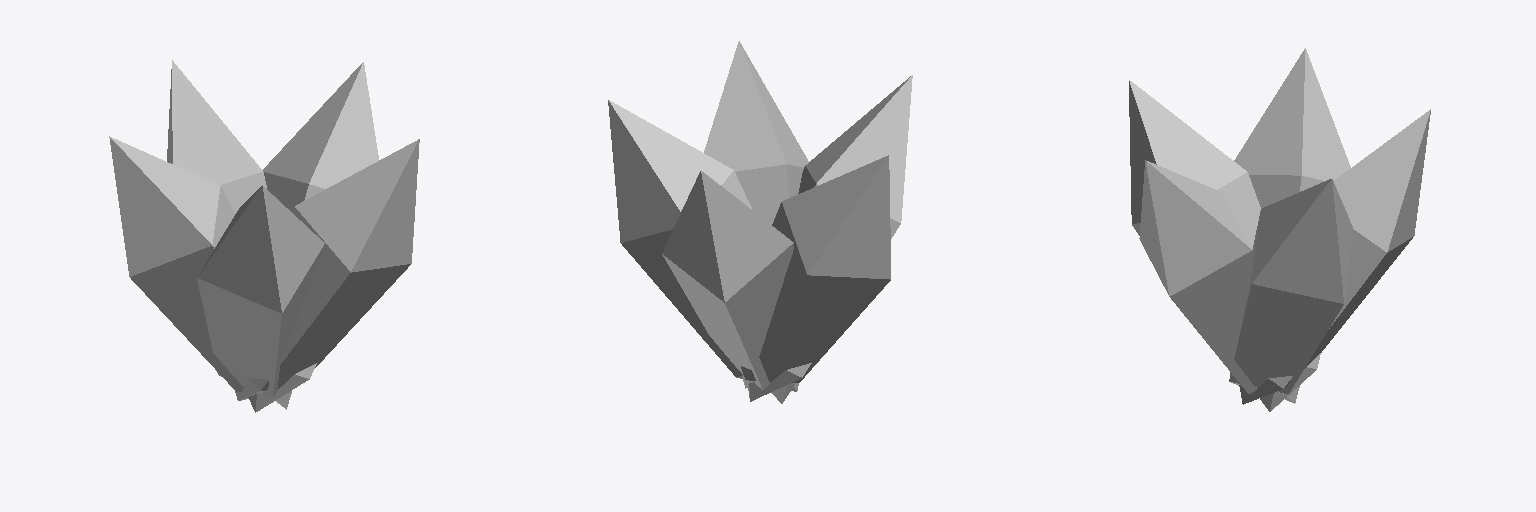
Rendered from crystal3.obj.
3 renders of one model, left to right at view 1: azimuth 30°, elevation 25°; view 2: azimuth 150°, elevation 25°; view 3: azimuth 270°, elevation 25°, orthographic.
Visible parts, largest first — view 1: Cone.002_Cone.005; view 2: Cone.002_Cone.005; view 3: Cone.002_Cone.005.
Boxes of the visible parts, box(x1,y1,x2,y2) form: Cone.002_Cone.005: box(109, 60, 419, 412); Cone.002_Cone.005: box(608, 41, 912, 403); Cone.002_Cone.005: box(1129, 48, 1430, 411).
Size of the model in its own units: 1.54 by 1.57 by 1.51.